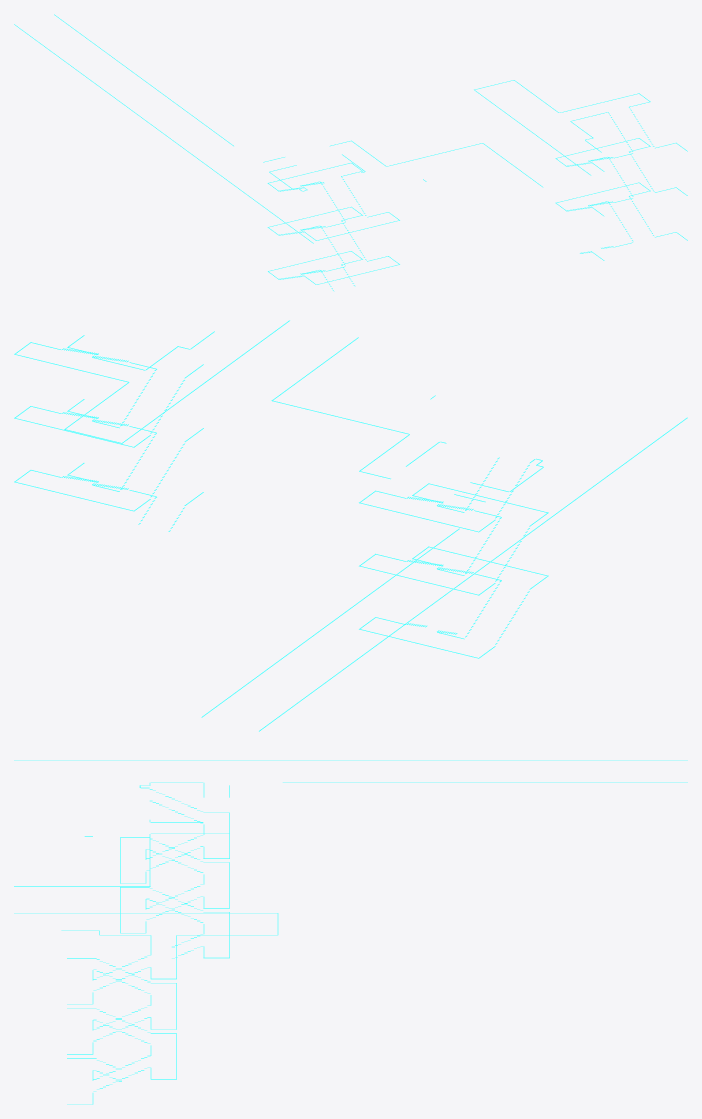
Rendered from v02-04-06-cyan.glb.
The picture shows the model from 3 angles, top to bottom: view 1: azimuth 30°, elevation 25°; view 2: azimuth 150°, elevation 25°; view 3: azimuth 270°, elevation 25°; orthographic projection. The views are drawn at different scales.
Parts seen in each view (by area): view 1: v02-04-06-cyan; view 2: v02-04-06-cyan; view 3: v02-04-06-cyan.
Boxes of the visible parts, <box> form: v02-04-06-cyan: <box>14,14,687,291</box>; v02-04-06-cyan: <box>14,320,687,731</box>; v02-04-06-cyan: <box>14,760,687,1104</box>.
Bounding box in the file's own units: 58.79 × 17.61 × 76.5.
